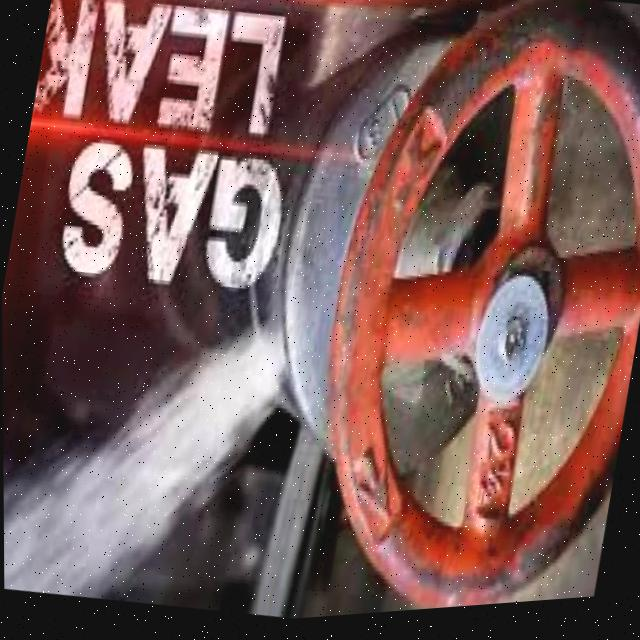corrosion: (2, 252, 345, 635)
